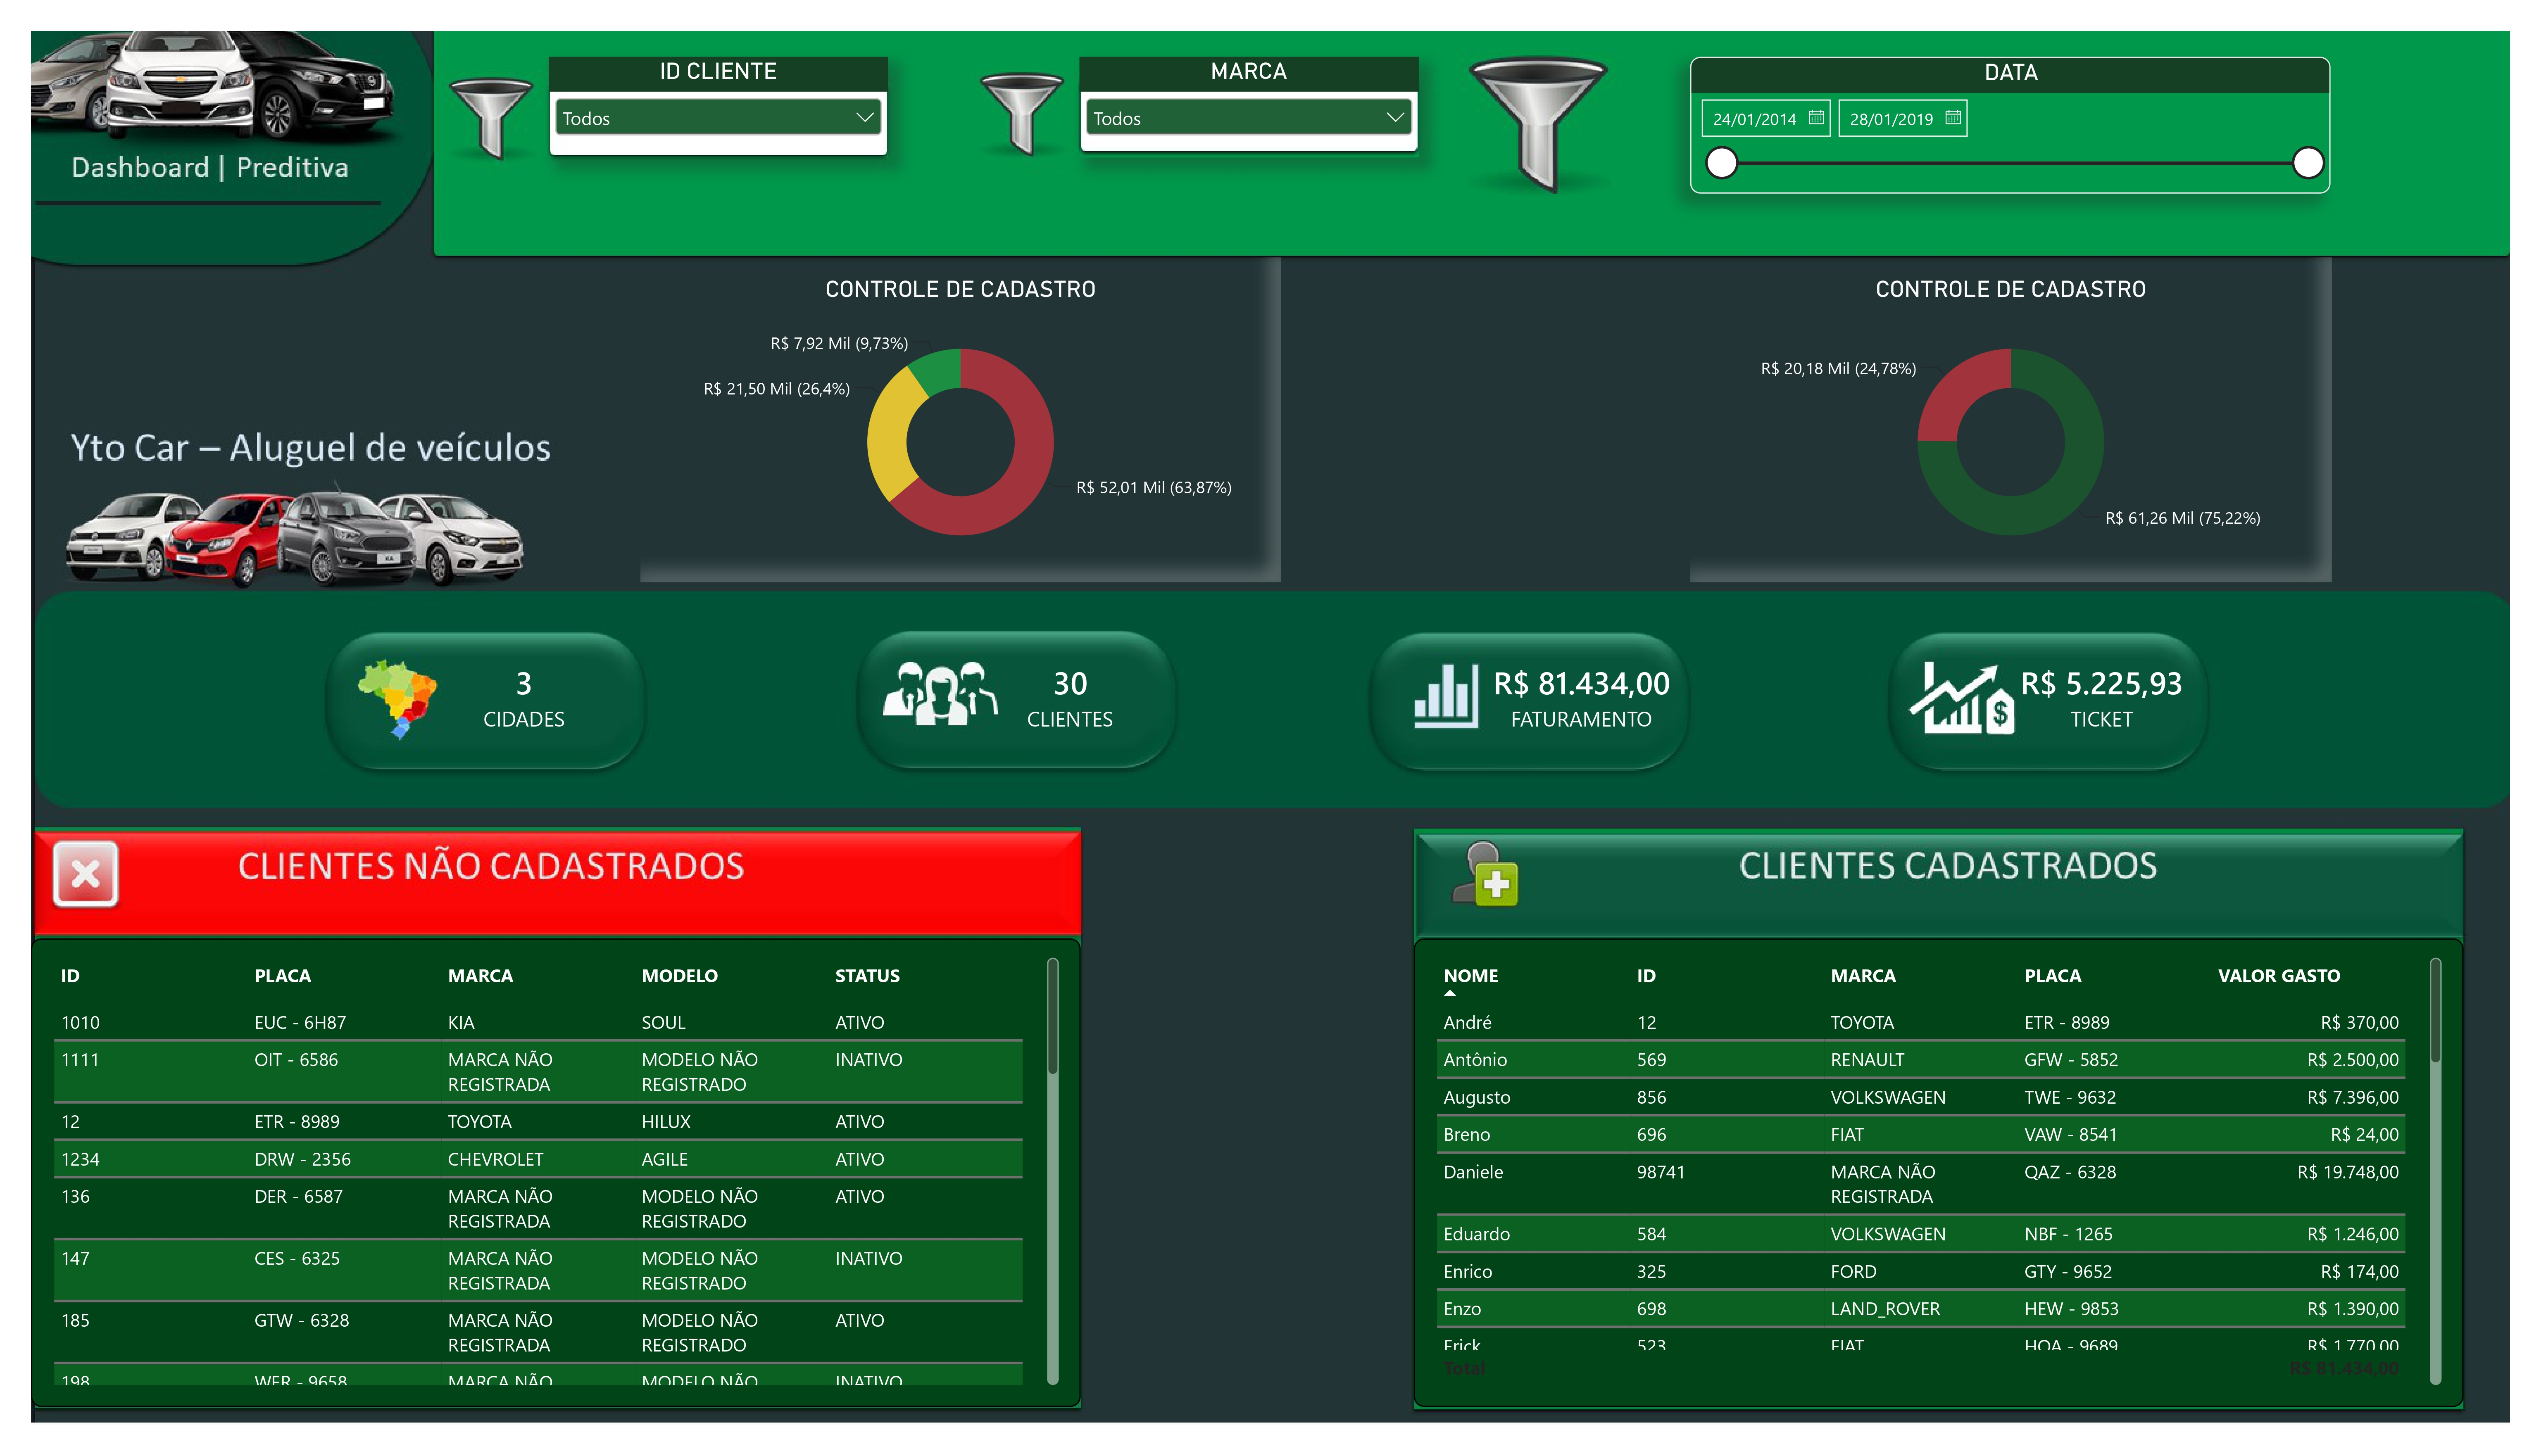

The dashboard page shown, as its layout file describes it:
{"tool":"powerbi","page":{"name":"CLIENTES","canvas":[1920,1080],"ordinal":2},"visuals":[{"type":"cardVisual","title":"FATURAMENTO","fields":{"Data":["Sum(tb_km.TOTAL VENDA)"]},"box":[1115.6,487.8,170,71.1],"z":0},{"type":"cardVisual","title":"FATURAMENTO","fields":{"Data":["Medidas.TT CLIENTE"]},"box":[720,487.8,170,71.1],"z":1000},{"type":"cardVisual","title":"FATURAMENTO","fields":{"Data":["Medidas.TT DE CIDADES"]},"box":[296.7,487.8,170,71.1],"z":2000},{"type":"cardVisual","title":"FATURAMENTO","fields":{"Data":["Medidas.TCKET MEDIO SALARIO"]},"box":[1518.9,487.8,170,71.1],"z":3000},{"type":"donutChart","title":"CONTROLE DE CADASTRO","fields":{"Category":["tb_km.SITUAÇÃO CADASTRAL"],"Y":["Sum(tb_km.TOTAL VENDA)"]},"box":[1285,175,496.7,251.7],"z":4000},{"type":"donutChart","title":"CONTROLE DE CADASTRO","fields":{"Category":["tb_km.CATEGORIAS"],"Y":["Sum(tb_km.TOTAL VENDA)"]},"box":[471.7,175,496.7,251.7],"z":5000},{"type":"slicer","title":"ID CLIENTE","fields":{"Values":["tb_km.SITUAÇÃO CADASTRAL","tb_cli.ID"]},"box":[401.2,20,262.5,77.5],"z":6000},{"type":"slicer","title":"MARCA","fields":{"Values":["tb_km.MARCA"]},"box":[812,20,262.5,77.5],"z":7000},{"type":"slicer","title":"DATA","fields":{"Values":["tb_km.DATA"]},"box":[1285,20,496.2,106.2],"z":8000},{"type":"tableEx","fields":{"Values":["INNER JOIN.tb_cli.NOME","INNER JOIN.tb_cli.ID","INNER JOIN.MARCA","INNER JOIN.PLACA","Sum(tb_km.TOTAL VENDA)"]},"box":[1071.2,702.5,812.5,363.8],"z":9000},{"type":"tableEx","fields":{"Values":["LEFT JOIN.ID_CLIENTE","LEFT JOIN.PLACA","tb_km.MARCA","tb_km.MODELO","tb_km.SITUAÇÃO CADASTRAL"]},"box":[0,702.5,812.5,363.8],"z":10000}]}

Visuals, with their boxes on the page's 1920x1080 design canvas (x1, y1, x2, y2). These are canvas units, not pixel positions in the 2541x1456 screenshot, which may show the page scaled, cropped or inside an application window:
"FATURAMENTO" cardVisual: bbox=(1116, 488, 1286, 559)
"FATURAMENTO" cardVisual: bbox=(720, 488, 890, 559)
"FATURAMENTO" cardVisual: bbox=(297, 488, 467, 559)
"FATURAMENTO" cardVisual: bbox=(1519, 488, 1689, 559)
"CONTROLE DE CADASTRO" donutChart: bbox=(1285, 175, 1782, 427)
"CONTROLE DE CADASTRO" donutChart: bbox=(472, 175, 968, 427)
"ID CLIENTE" slicer: bbox=(401, 20, 664, 98)
"MARCA" slicer: bbox=(812, 20, 1074, 98)
"DATA" slicer: bbox=(1285, 20, 1781, 126)
tableEx - INNER JOIN.tb_cli.NOME x INNER JOIN.tb_cli.ID: bbox=(1071, 702, 1884, 1066)
tableEx - LEFT JOIN.ID_CLIENTE x LEFT JOIN.PLACA: bbox=(0, 702, 812, 1066)
